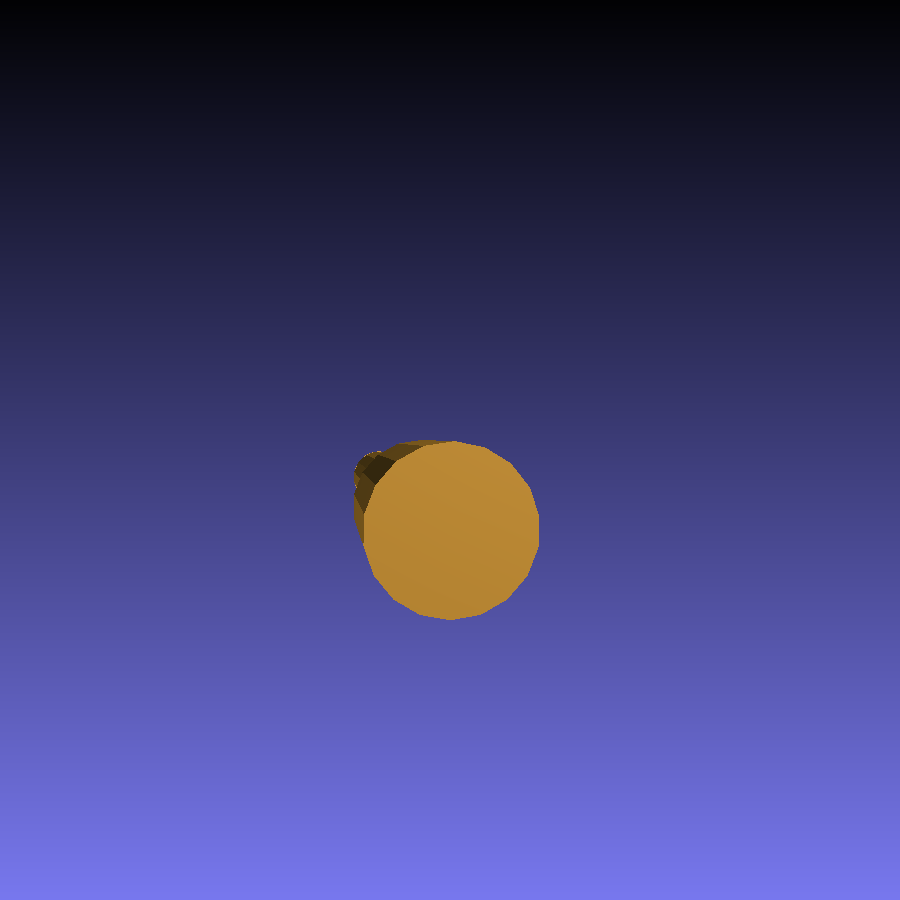cargo_g: (354, 440, 541, 622)
